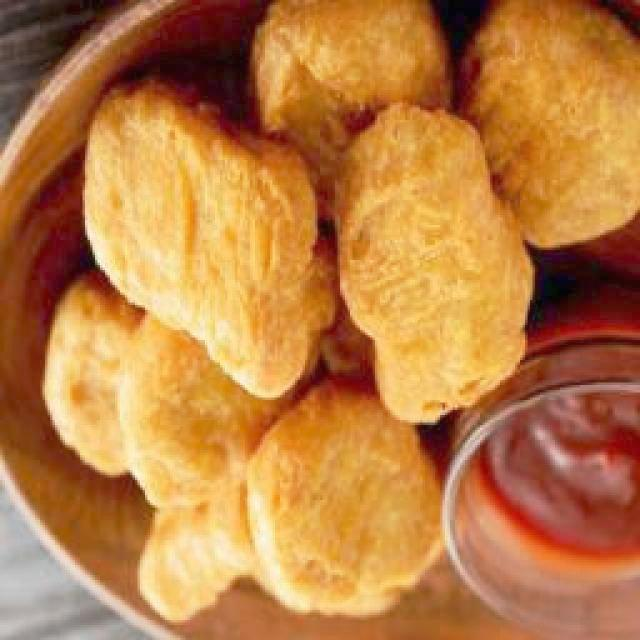chicken_nuggets: (84, 1, 640, 422), (46, 273, 442, 620)
ketchup: (475, 393, 640, 574)
